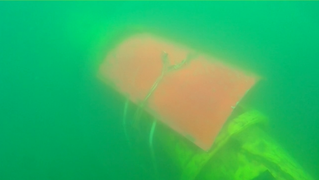leak: (97, 29, 256, 151)
pipe: (118, 95, 314, 180), (47, 1, 141, 85)
